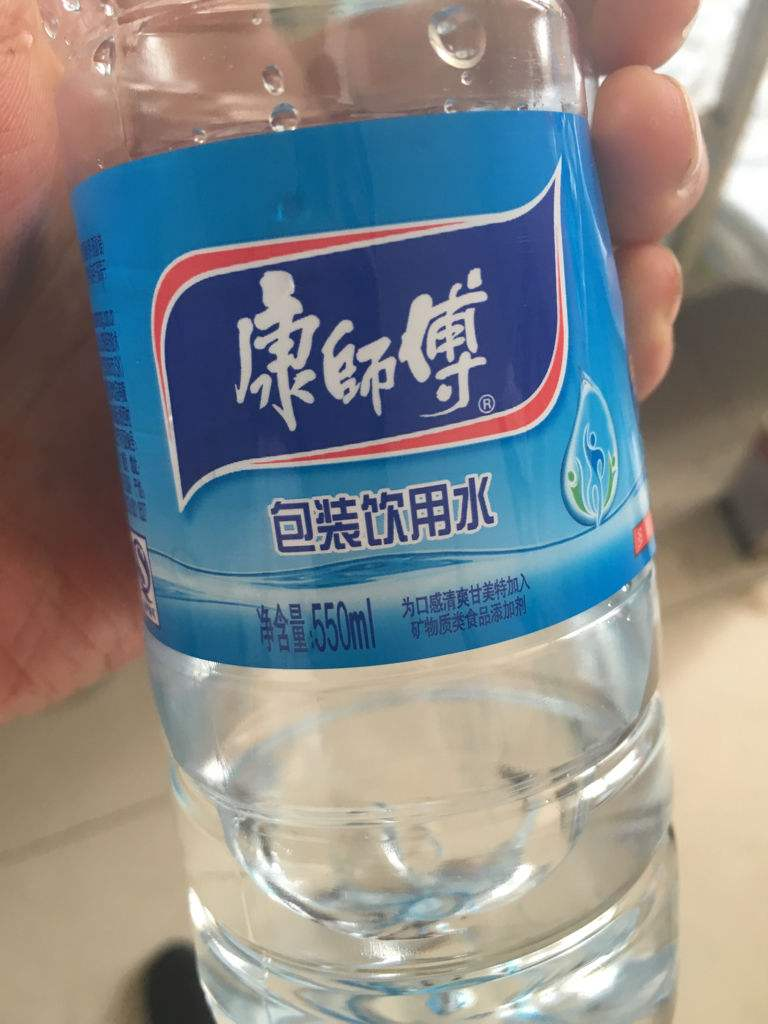amwater: (30, 1, 724, 1019)
